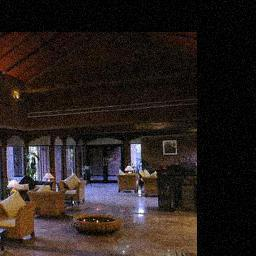Otro Obstaculo: (73, 213, 126, 235)
Puerta: (89, 146, 120, 182)
